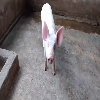heo: (41, 20, 65, 65)
